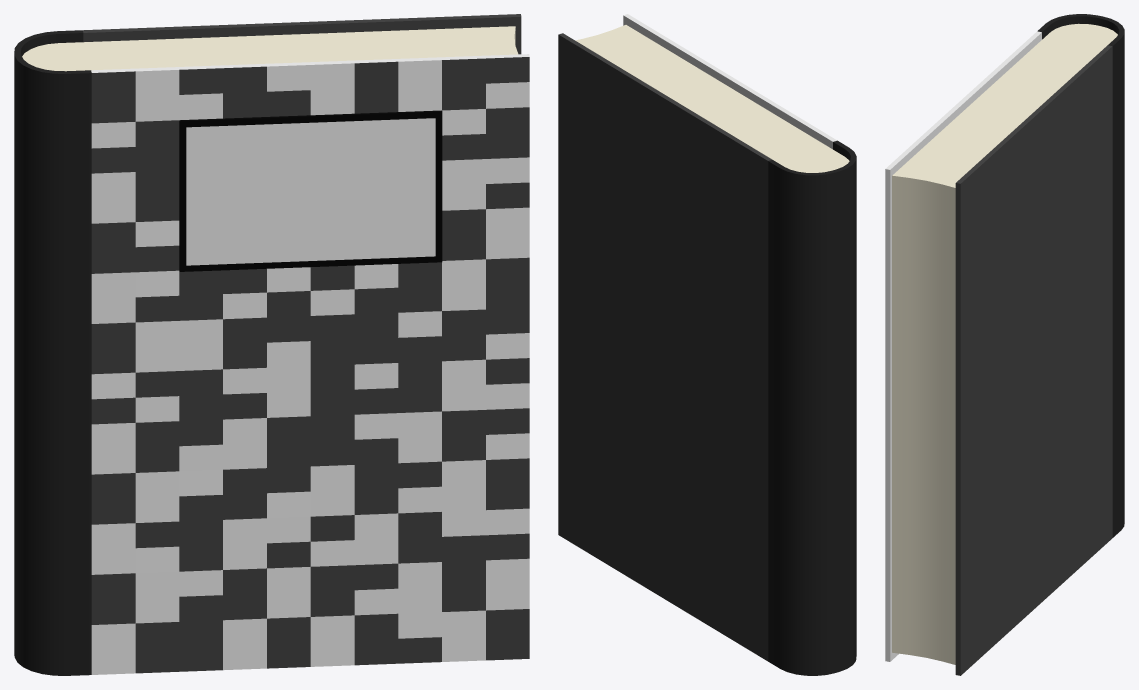
File: notebook.glb
3 renders of one model, left to right at view 1: azimuth 30°, elevation 25°; view 2: azimuth 150°, elevation 25°; view 3: azimuth 270°, elevation 25°, orthographic. The views are drawn at different scales.
Visible parts, largest first — view 1: Cube.953; view 2: Cube.953; view 3: Cube.953.
Part boxes in pixels (x1=…): Cube.953: x1=14, y1=14, x2=529, y2=675; Cube.953: x1=558, y1=14, x2=856, y2=675; Cube.953: x1=885, y1=14, x2=1124, y2=675.
Size of the model in its own units: 1.55 by 2.1 by 0.9263.
Materials: 1 (1 with a texture image).
